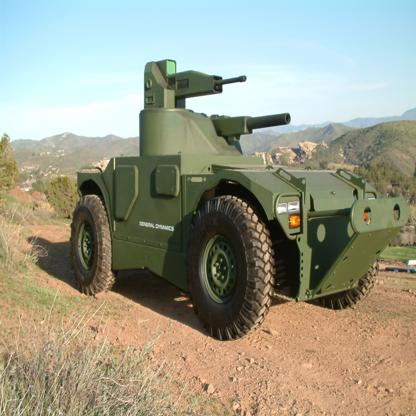Tank: (67, 49, 411, 342)
